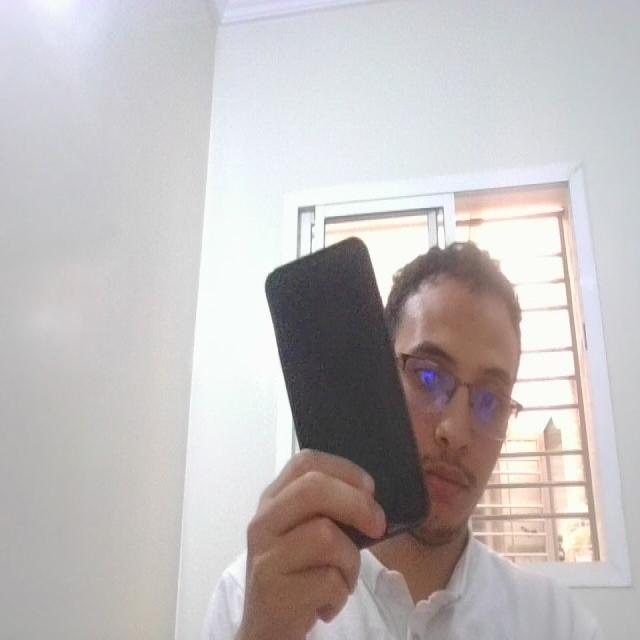phone: (257, 228, 437, 560)
